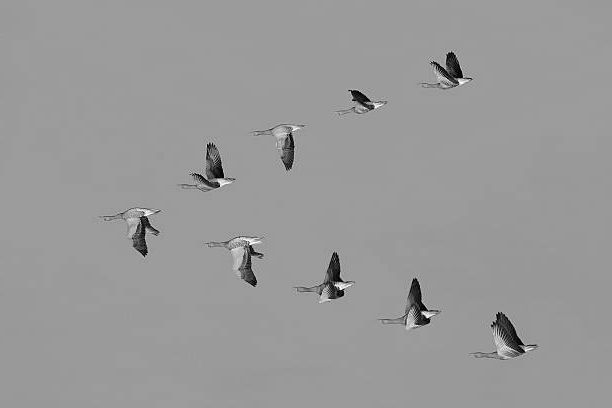Bird: (375, 273, 444, 333), (201, 231, 268, 291), (463, 307, 538, 360), (293, 247, 358, 307), (98, 205, 162, 258), (249, 119, 306, 174), (178, 138, 236, 192), (416, 50, 473, 89), (334, 84, 389, 118)
